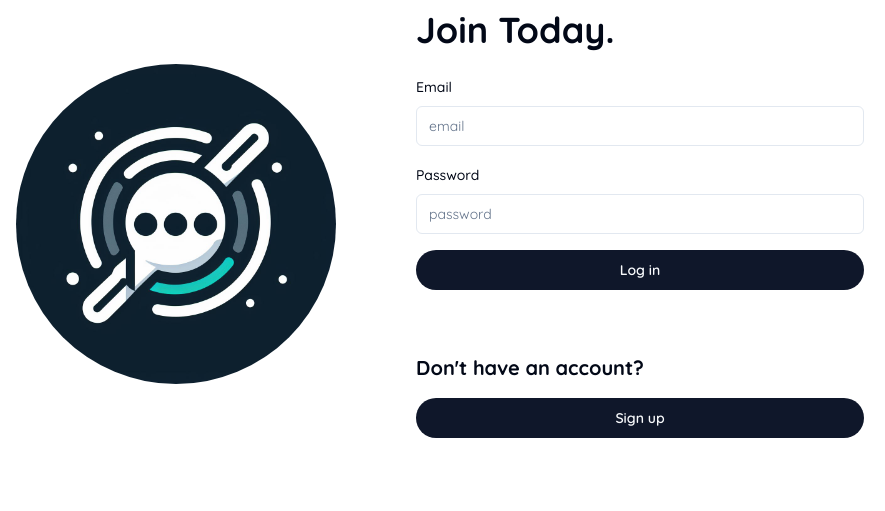
Test: Login › should display error message when username is empty
The width and height of the screenshot is (885, 511).
Click the submit button.
click(640, 270)  # box [416,250,864,290]
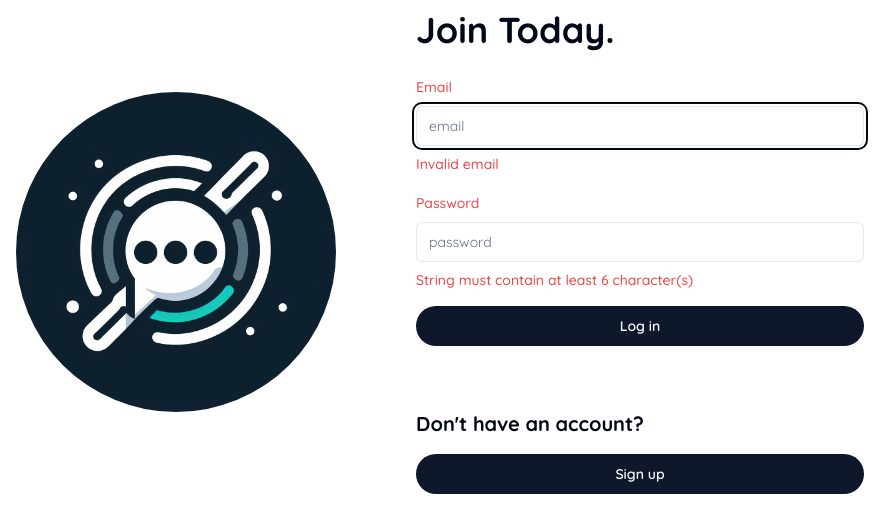
Expected: the text "Invalid email" is shown, [416,155,499,173]
